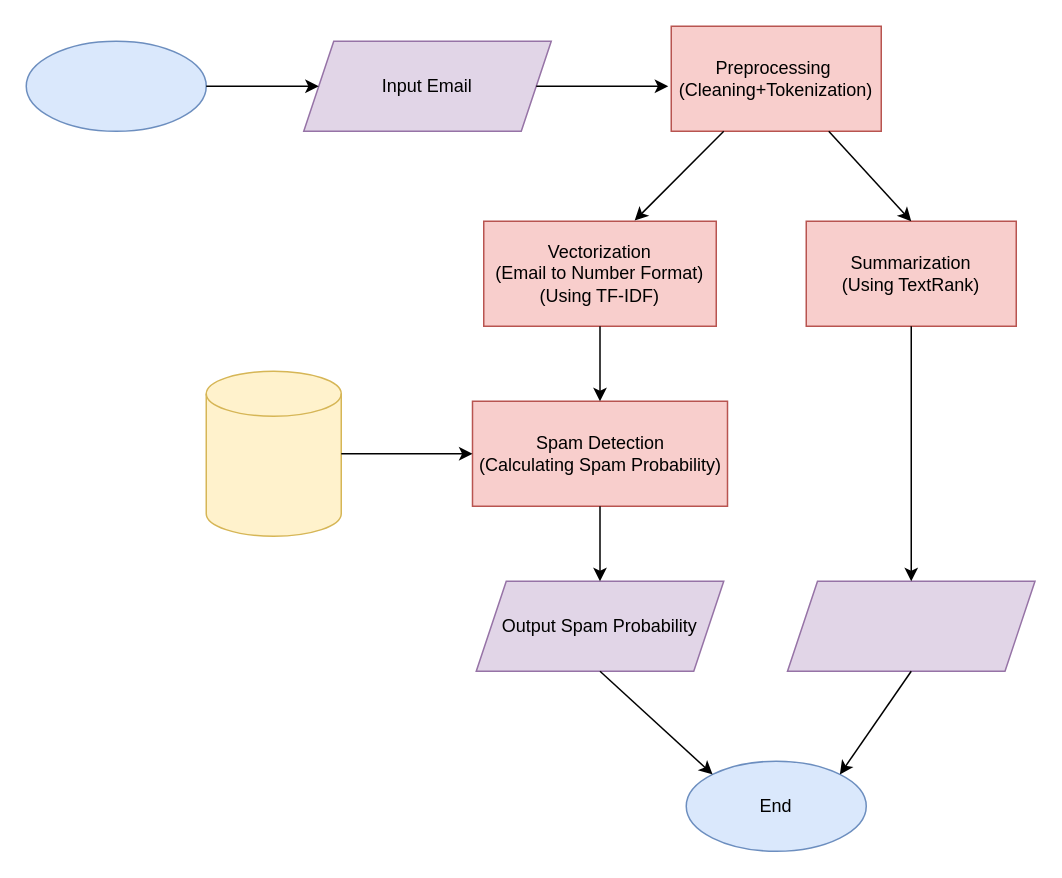
This 1062x878 diagram has some shape labels left out. Here are the shapes that lost their labels. From the top down, the centre of each, then its label:
At [115,85]: "Start".
At [273,453]: "Naive Bayes Model".
At [910,625]: "Output Mail Summary".
